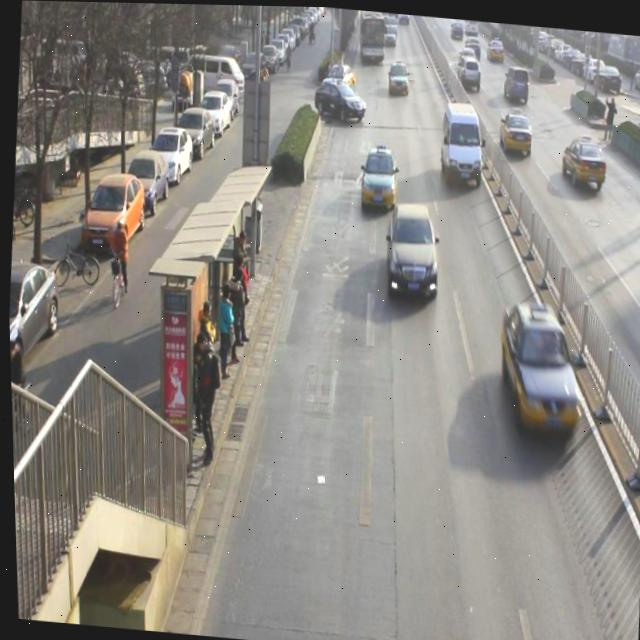car: (493, 300, 587, 447), (380, 202, 444, 306), (559, 130, 610, 193), (356, 143, 398, 209), (319, 82, 365, 123), (499, 109, 534, 150), (500, 61, 532, 103), (459, 54, 485, 89), (331, 57, 356, 91), (386, 59, 409, 93), (457, 40, 477, 70), (486, 34, 506, 61), (465, 32, 482, 54), (383, 20, 399, 43)
truck: (435, 96, 490, 186)
